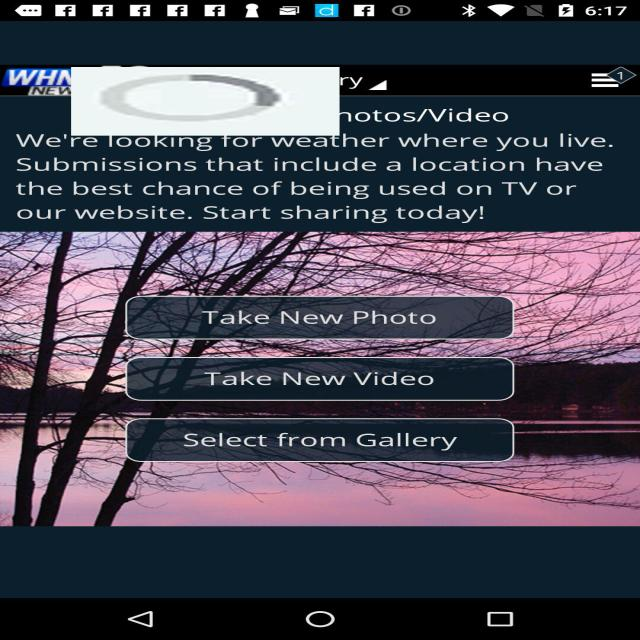misdirection: (71, 67, 340, 136)
